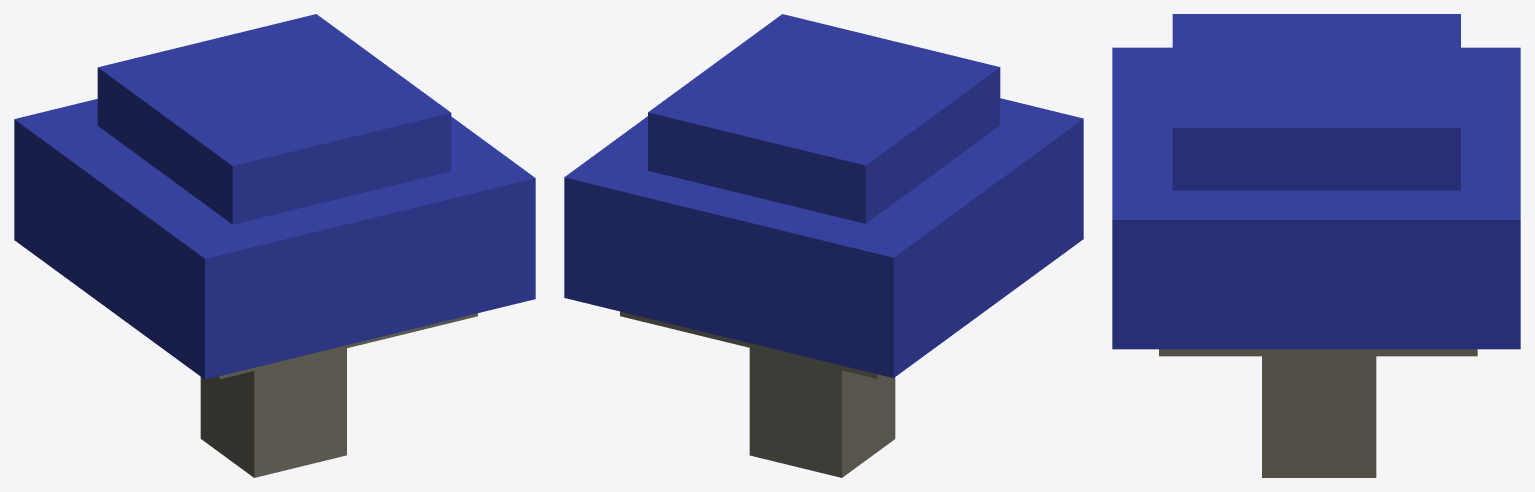
Rendered from Mushroom 2.glb.
3 renders of one model, left to right at view 1: azimuth 30°, elevation 25°; view 2: azimuth 150°, elevation 25°; view 3: azimuth 270°, elevation 25°, orthographic. The views are drawn at different scales.
Parts seen in each view (by area): view 1: Cube.001, Cube.002, Cube.003, Cube.004; view 2: Cube.001, Cube.002, Cube.003, Cube.004; view 3: Cube.001, Cube.002, Cube.003, Cube.004.
Boxes of the visible parts, x1,y1,x2,y2 form: Cube.001: (14, 99, 535, 379); Cube.002: (97, 14, 451, 224); Cube.003: (200, 348, 346, 477); Cube.004: (217, 313, 477, 379); Cube.001: (564, 98, 1083, 377); Cube.002: (648, 14, 1000, 223); Cube.003: (749, 348, 895, 477); Cube.004: (620, 311, 881, 378); Cube.001: (1112, 47, 1520, 349); Cube.002: (1172, 14, 1460, 190); Cube.003: (1262, 356, 1376, 477); Cube.004: (1159, 349, 1477, 356).
Size of the model in its own units: 0.2722 by 0.2816 by 0.2722.
